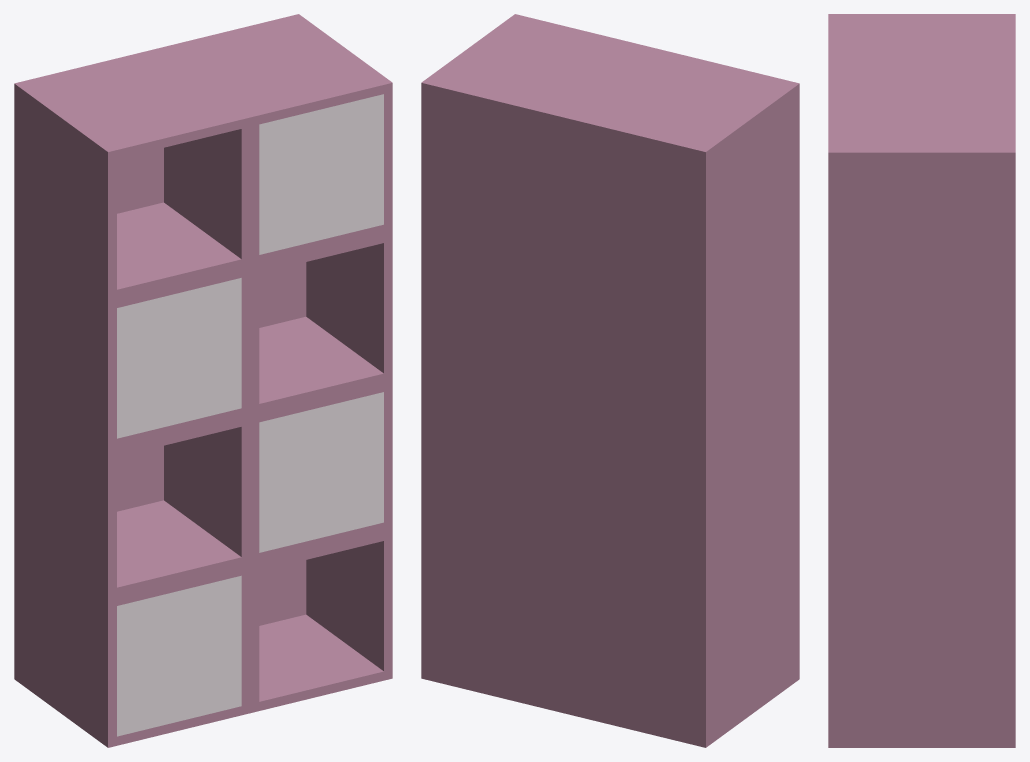
File: Prop_Shelve_13.fbx
3 renders of one model, left to right at view 1: azimuth 30°, elevation 25°; view 2: azimuth 150°, elevation 25°; view 3: azimuth 270°, elevation 25°, orthographic.
Parts seen in each view (by area): view 1: Prop_Shelve_13; view 2: Prop_Shelve_13; view 3: Prop_Shelve_13.
Boxes of the visible parts, x1,y1,x2,y2 form: Prop_Shelve_13: (14, 14, 392, 747); Prop_Shelve_13: (421, 14, 799, 747); Prop_Shelve_13: (828, 14, 1015, 747).
Bounding box in the file's own units: 81.36 × 163 × 46.5.
